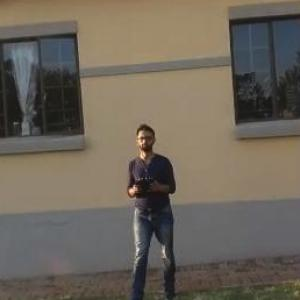follow: (117, 113, 184, 299)
